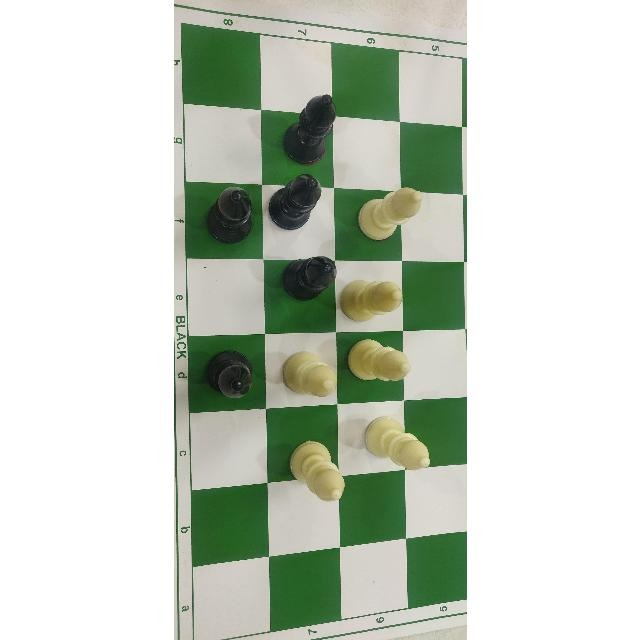black-bishop: (278, 91, 338, 170), (264, 167, 324, 241), (199, 342, 257, 406), (203, 180, 255, 249), (278, 248, 337, 308)
white-bishop: (353, 185, 423, 247), (363, 412, 431, 473), (284, 437, 346, 503), (344, 335, 412, 387), (338, 273, 404, 326), (279, 348, 339, 400)
